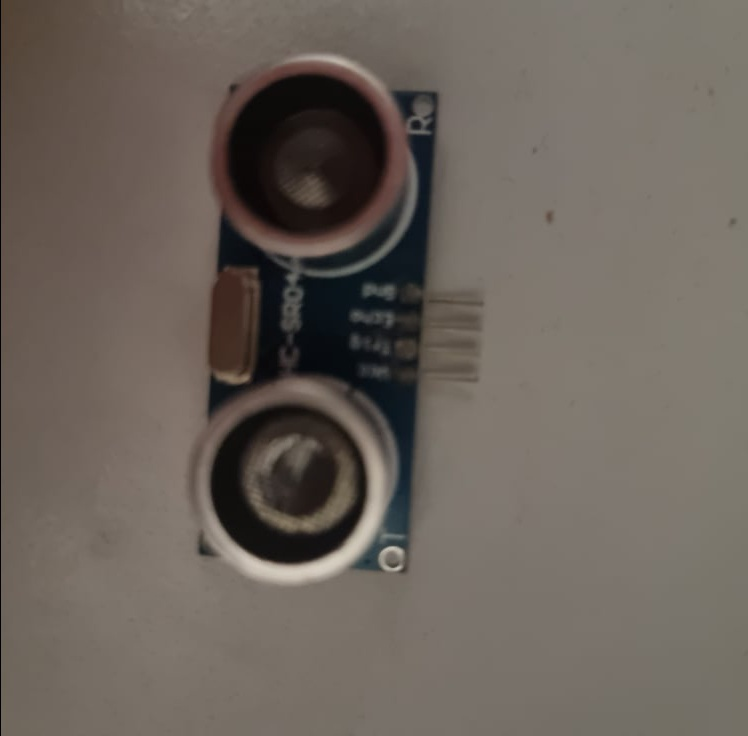SENSOR: (184, 51, 485, 585)
